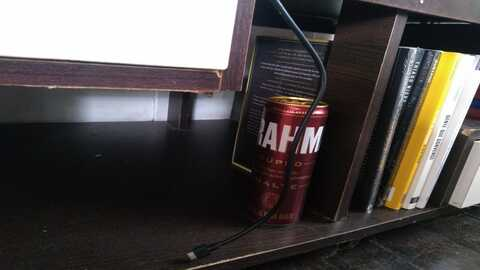duplo_malte: (245, 96, 330, 216)
